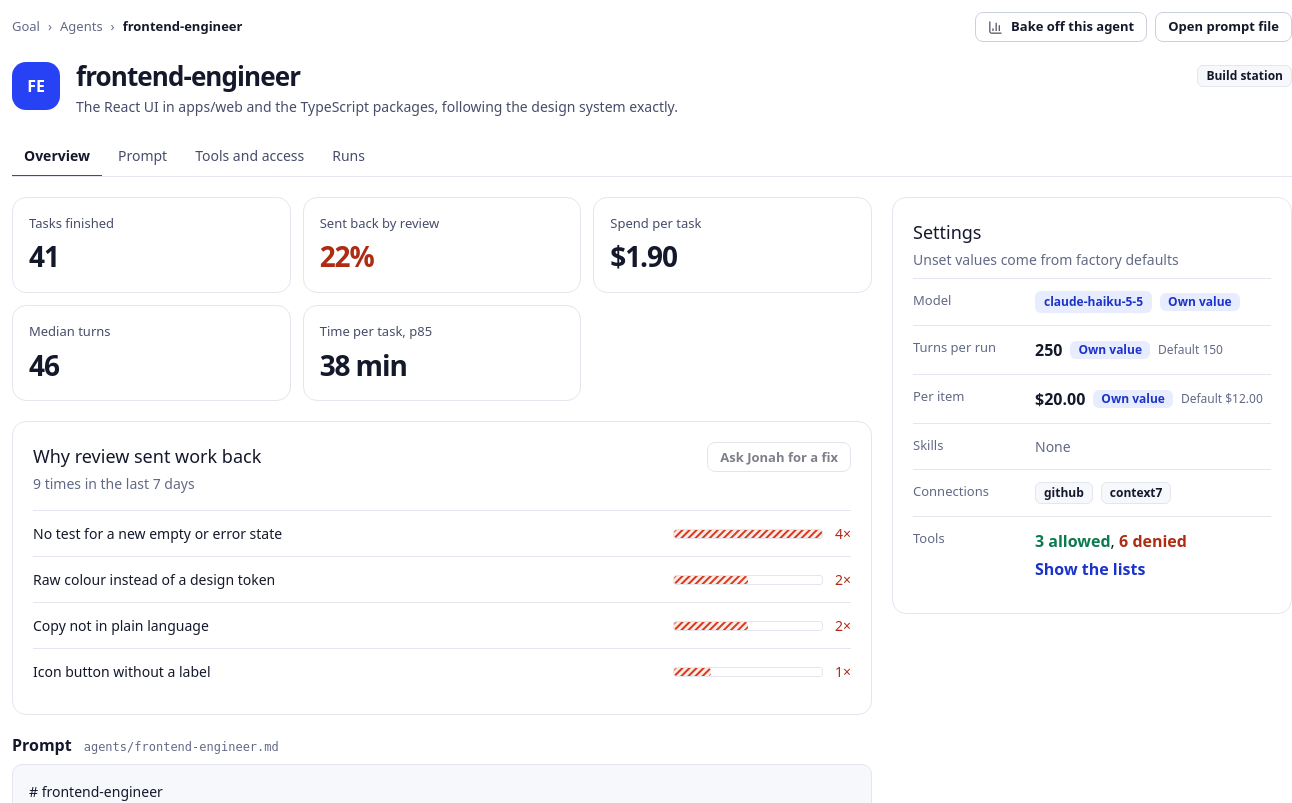
Test: Bake off this agent › says the budget has run out when a 409 carries no estimate
This screenshot has width=1292, height=803.
Check: the heading "frontend-engineer" is shown, box [76, 58, 300, 94]
Click the button "Bake off this agent" at (1061, 27), box [975, 12, 1147, 42]
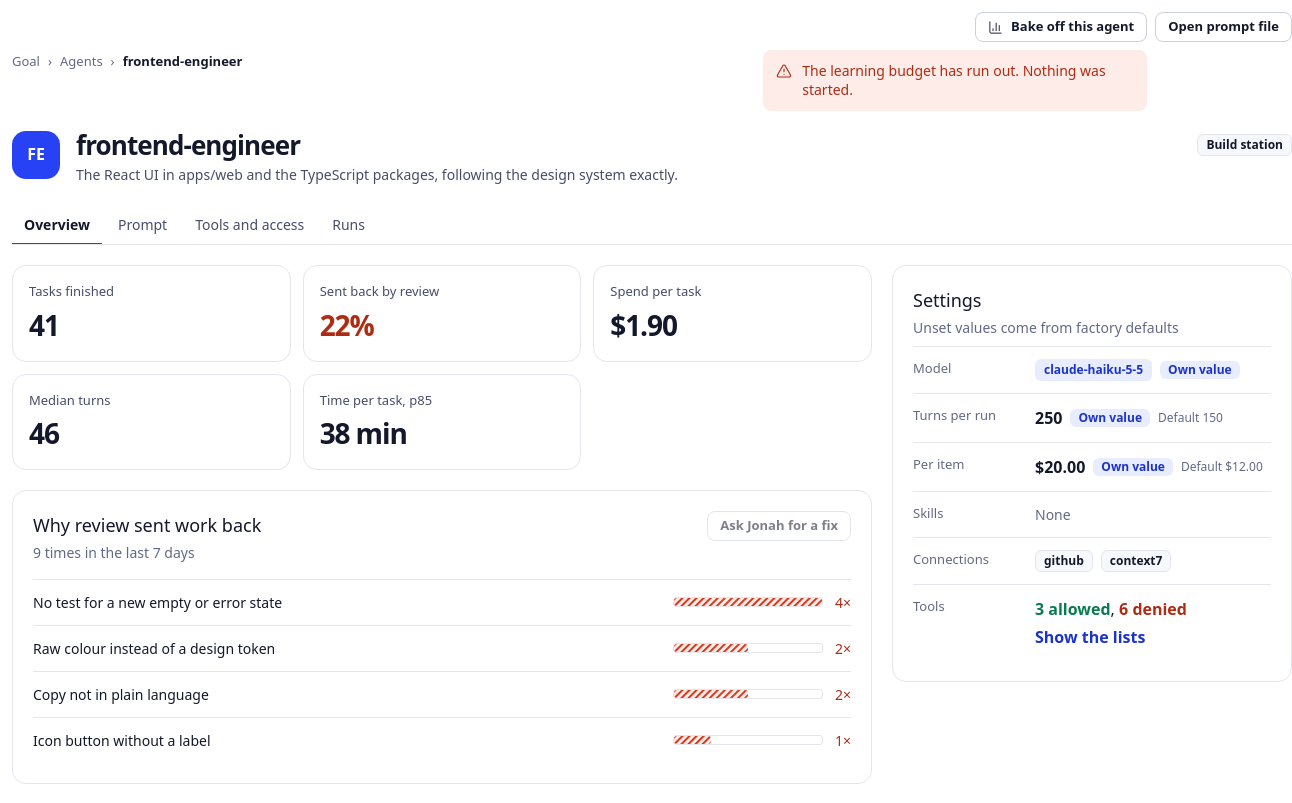
Check: the text "The learning budget has run out. Nothing was started." is shown, box [802, 61, 1134, 100]
